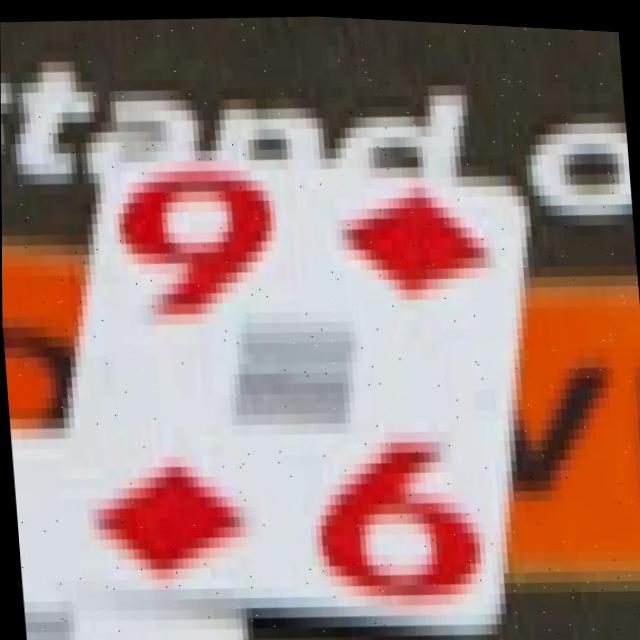Card-9: (51, 148, 520, 622)
